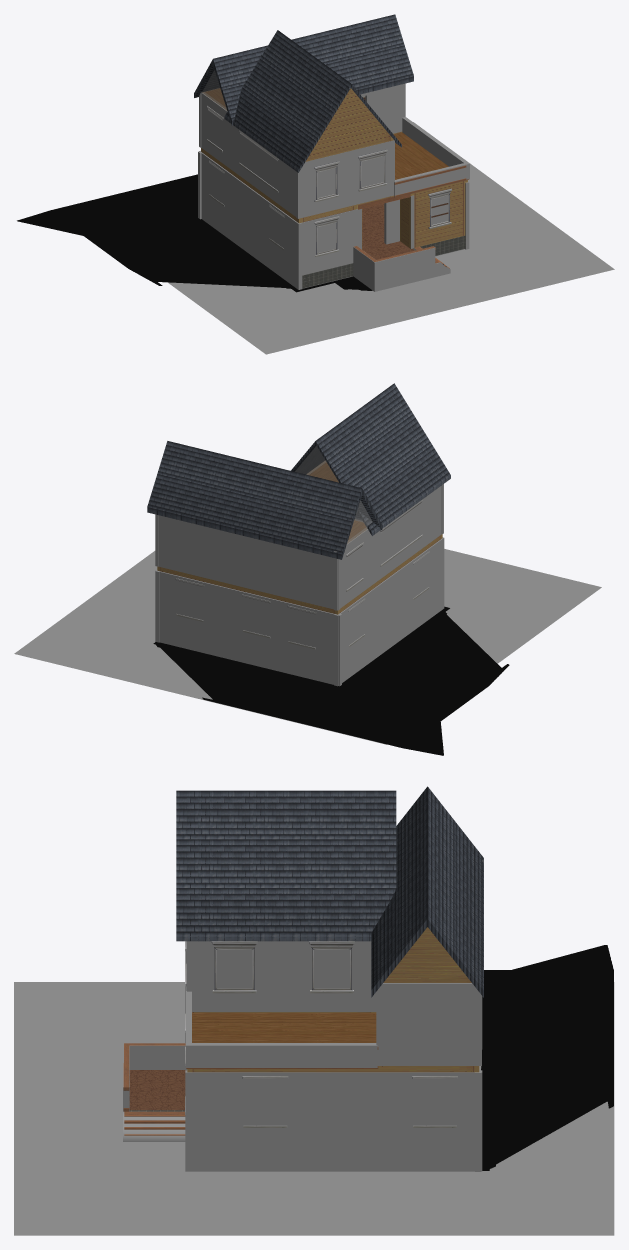
Rendered from zhuzhai_danshengongyu01.FBX.
The picture shows the model from 3 angles, top to bottom: view 1: azimuth 30°, elevation 25°; view 2: azimuth 150°, elevation 25°; view 3: azimuth 270°, elevation 25°; orthographic projection. The views are drawn at different scales.
Parts seen in each view (by area): view 1: floor_dz, wall_wd, shadow, box_1l, Box001, wall_1l, Box002, Box003, box_2l, wall_2l, floor_1l, floor_2l; view 2: wall_wd, floor_dz, shadow, box_1l, box_2l, Box001, Box003, wall_1l, wall_2l; view 3: floor_dz, wall_wd, box_1l, shadow, box_2l, Box004, floor_2l, wall_1l, wall_2l, floor_1l.
Boxes of the visible parts, bbox=[...] form: floor_dz: bbox=[168, 122, 614, 354]; wall_wd: bbox=[194, 14, 413, 172]; shadow: bbox=[17, 174, 372, 292]; box_1l: bbox=[198, 151, 469, 291]; Box001: bbox=[199, 150, 302, 289]; wall_1l: bbox=[201, 148, 467, 288]; Box002: bbox=[296, 140, 394, 218]; Box003: bbox=[201, 92, 296, 216]; box_2l: bbox=[199, 83, 469, 196]; wall_2l: bbox=[201, 88, 469, 219]; floor_1l: bbox=[362, 203, 414, 259]; floor_2l: bbox=[394, 132, 448, 179]; wall_wd: bbox=[147, 383, 450, 559]; floor_dz: bbox=[14, 549, 601, 744]; shadow: bbox=[153, 606, 509, 755]; box_1l: bbox=[155, 569, 341, 686]; box_2l: bbox=[158, 515, 340, 610]; Box001: bbox=[334, 537, 444, 686]; Box003: bbox=[334, 486, 441, 610]; wall_1l: bbox=[157, 534, 442, 649]; wall_2l: bbox=[158, 460, 441, 609]; floor_dz: bbox=[14, 982, 614, 1235]; wall_wd: bbox=[176, 786, 483, 997]; box_1l: bbox=[123, 986, 482, 1171]; shadow: bbox=[481, 945, 613, 1170]; box_2l: bbox=[185, 941, 377, 1067]; Box004: bbox=[376, 983, 481, 1065]; floor_2l: bbox=[192, 1013, 376, 1042]; wall_1l: bbox=[123, 986, 481, 1135]; wall_2l: bbox=[185, 941, 479, 1068]; floor_1l: bbox=[129, 1070, 186, 1110].
Size of the model in its own units: 2284 by 1091 by 1999.
4 materials, 2 textured.
